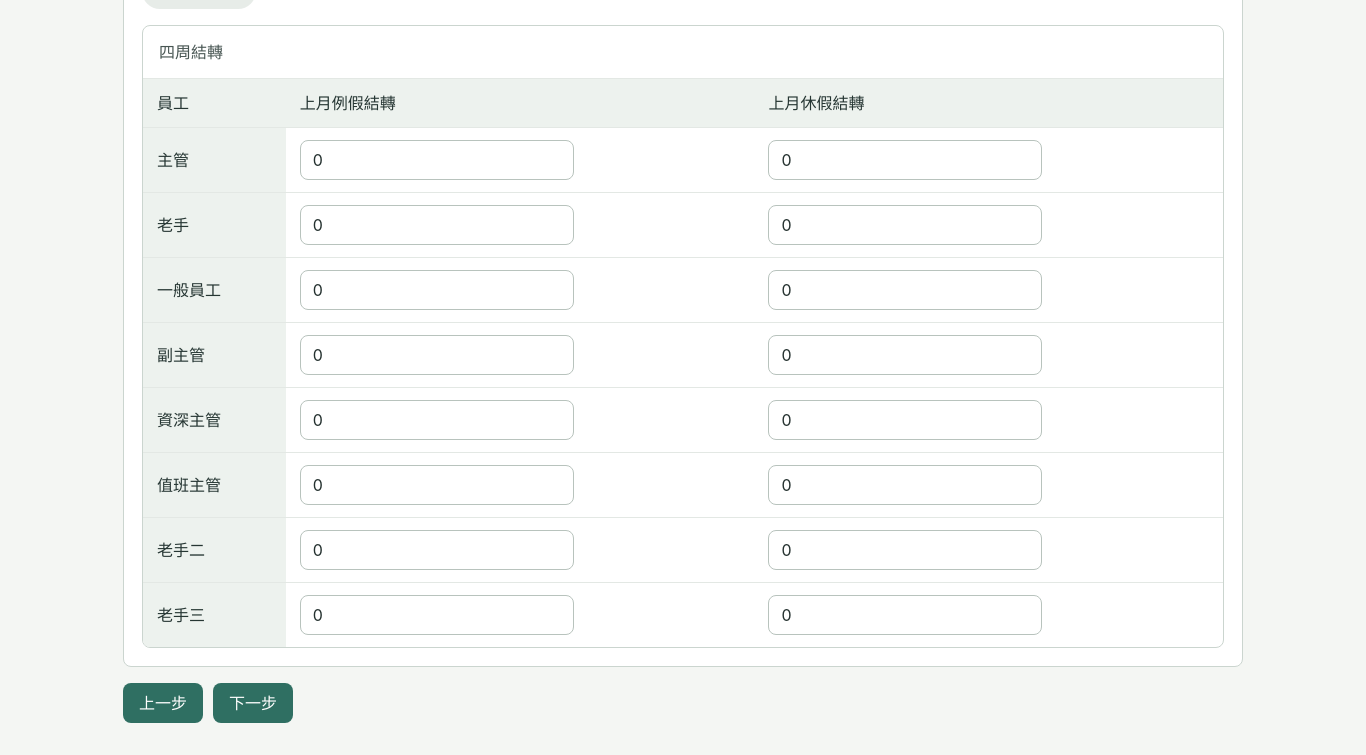
it: App › shows a loading state while generating a schedule
This screenshot has width=1366, height=755.
(page scrolled)
Click the button "下一步" at {"x": 253, "y": 703}, box [213,683,293,723]
(page scrolled)
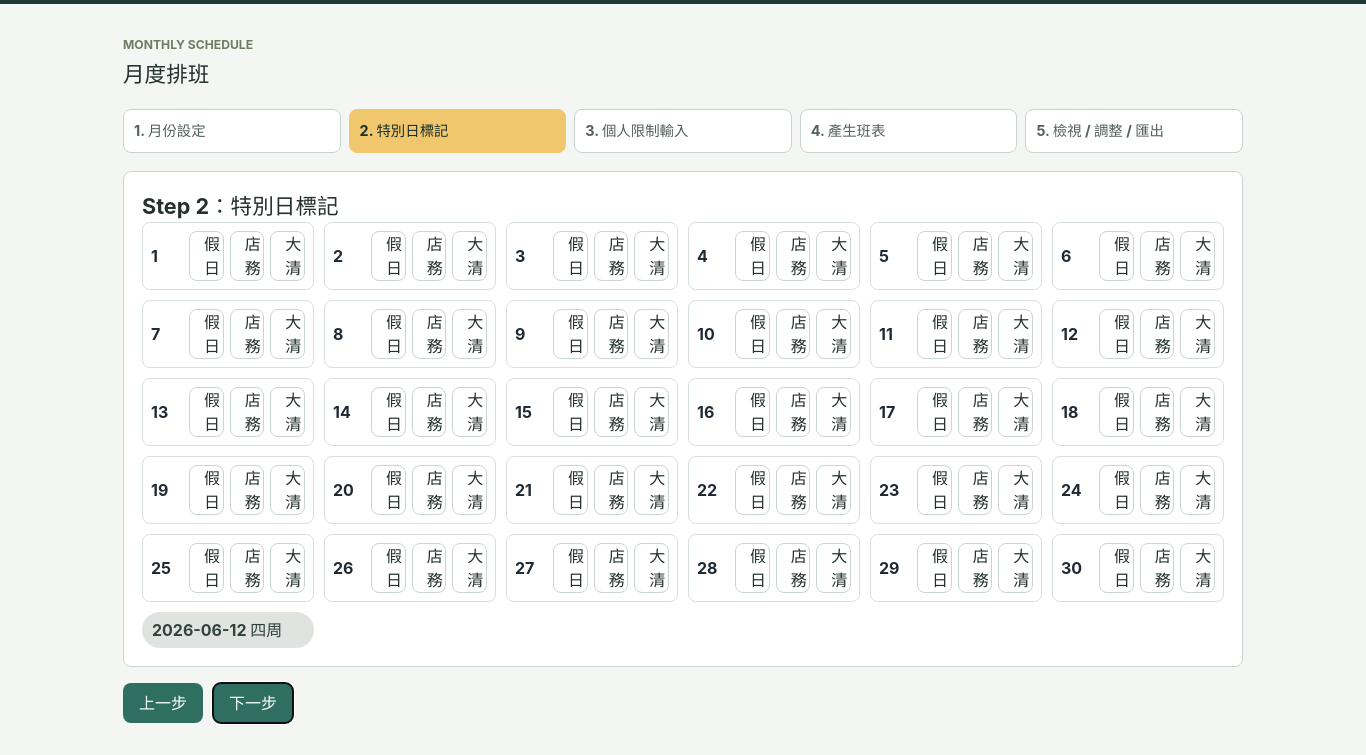
Click the button "下一步" at {"x": 253, "y": 703}, box [213,683,293,723]
(page scrolled)
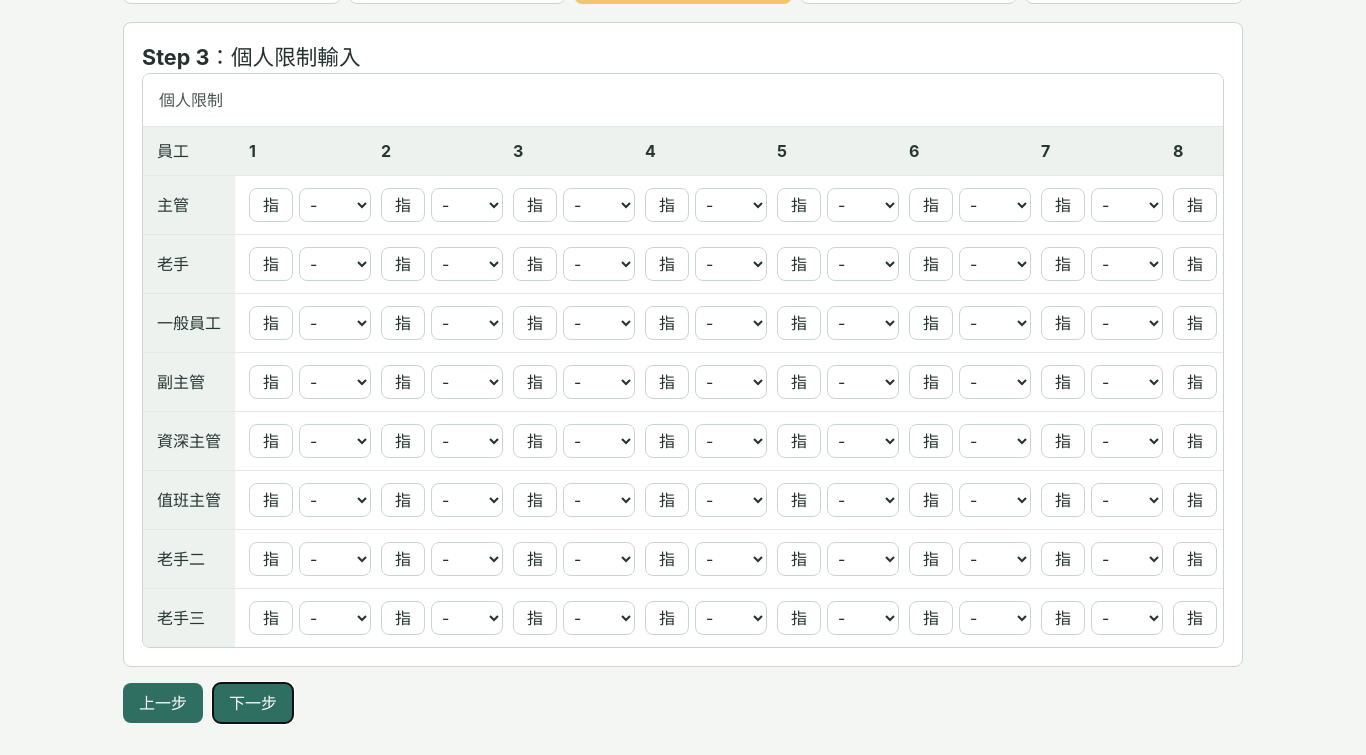
Click the button "下一步" at {"x": 253, "y": 703}, box [213,683,293,723]
(page scrolled)
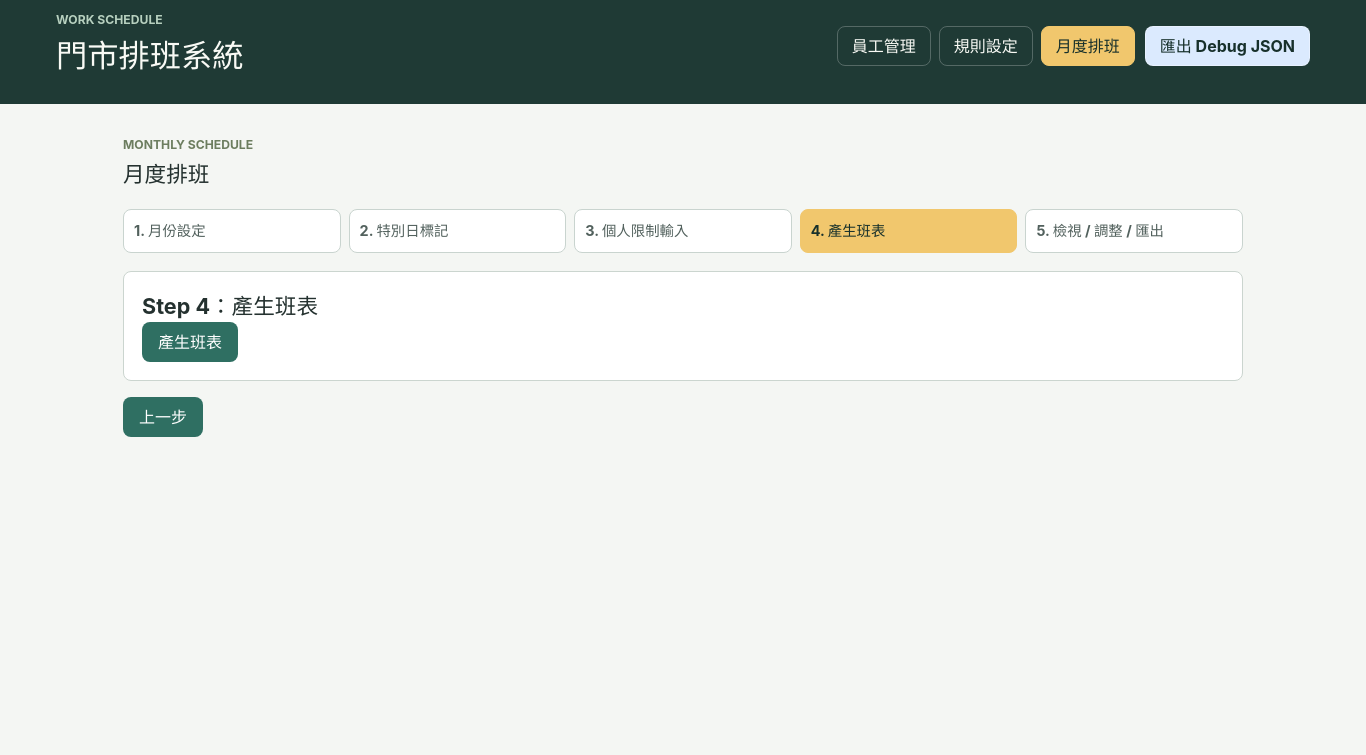
Click the button "產生班表" at {"x": 190, "y": 342}, box [142,322,238,362]
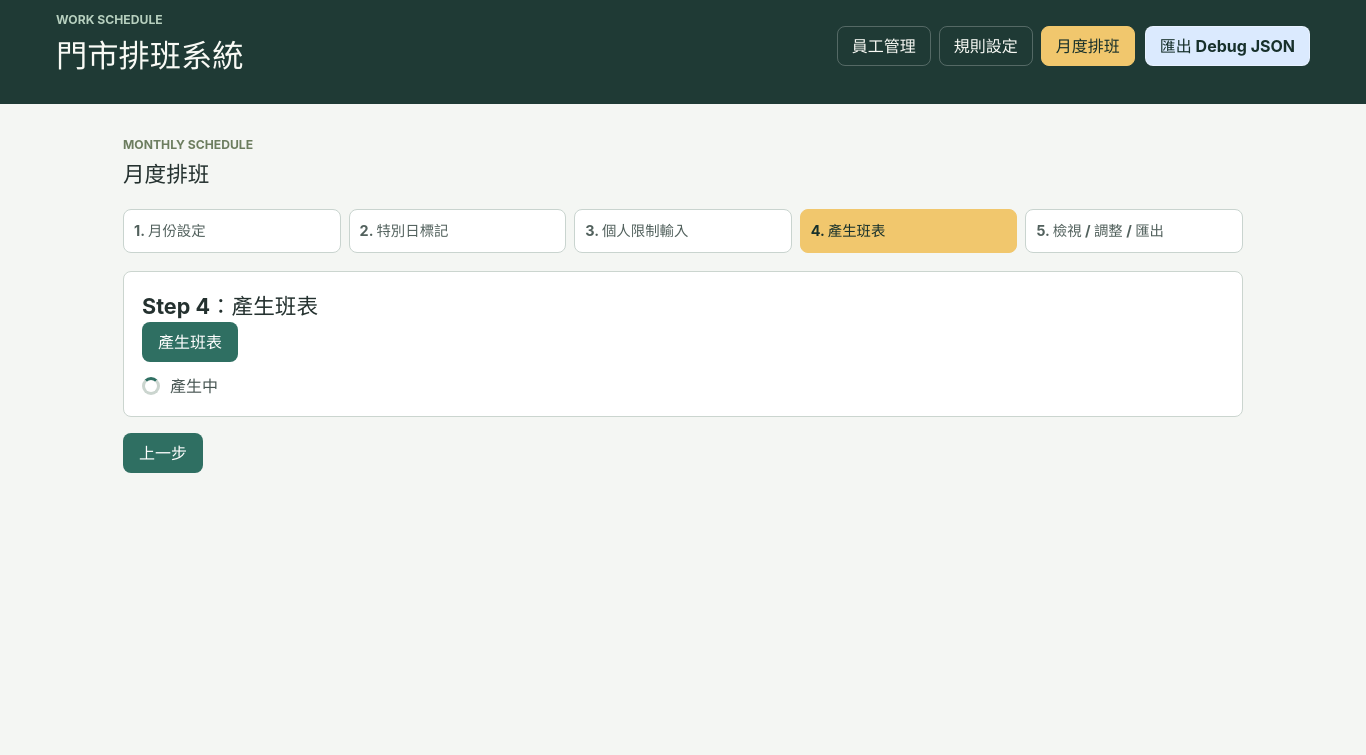
Now the message reads "產生中", box [170,376,218,396]
